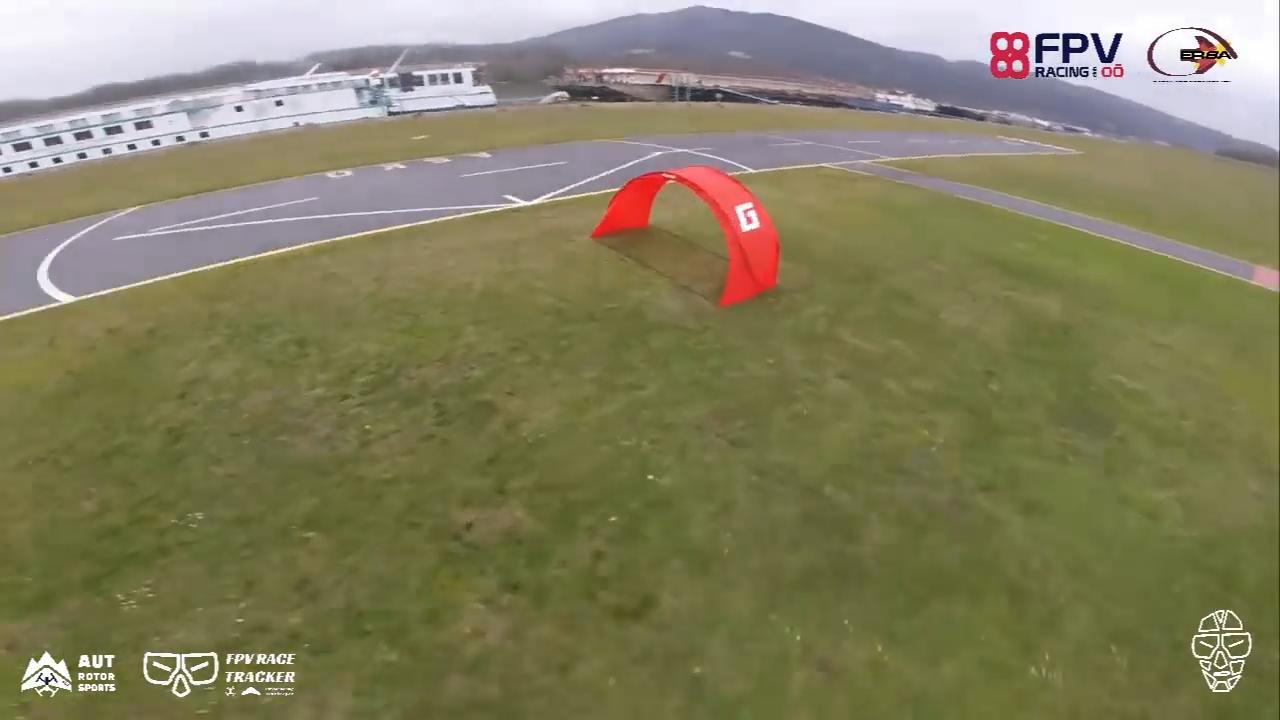gate: (591, 164, 781, 311)
